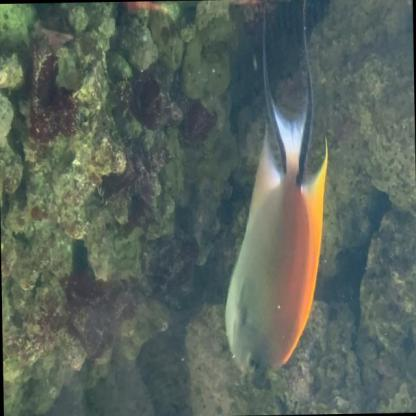fish: (218, 0, 333, 374)
